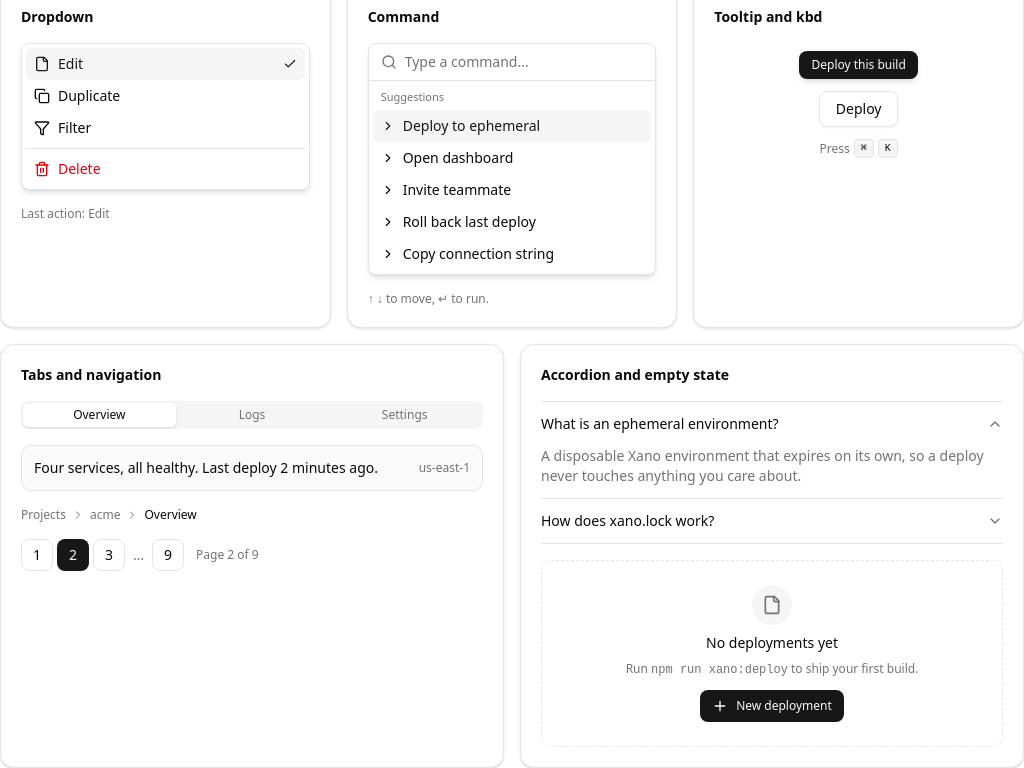
Test: the component gallery › switches tabs and follows them in the breadcrumb
This screenshot has width=1024, height=768.
(page scrolled)
Expected: the text "Four services, all healthy. Last deploy 2 minutes ago." is shown, [34,458,378,478]
Click the tab "Logs": (252, 414) [176,402,328,426]
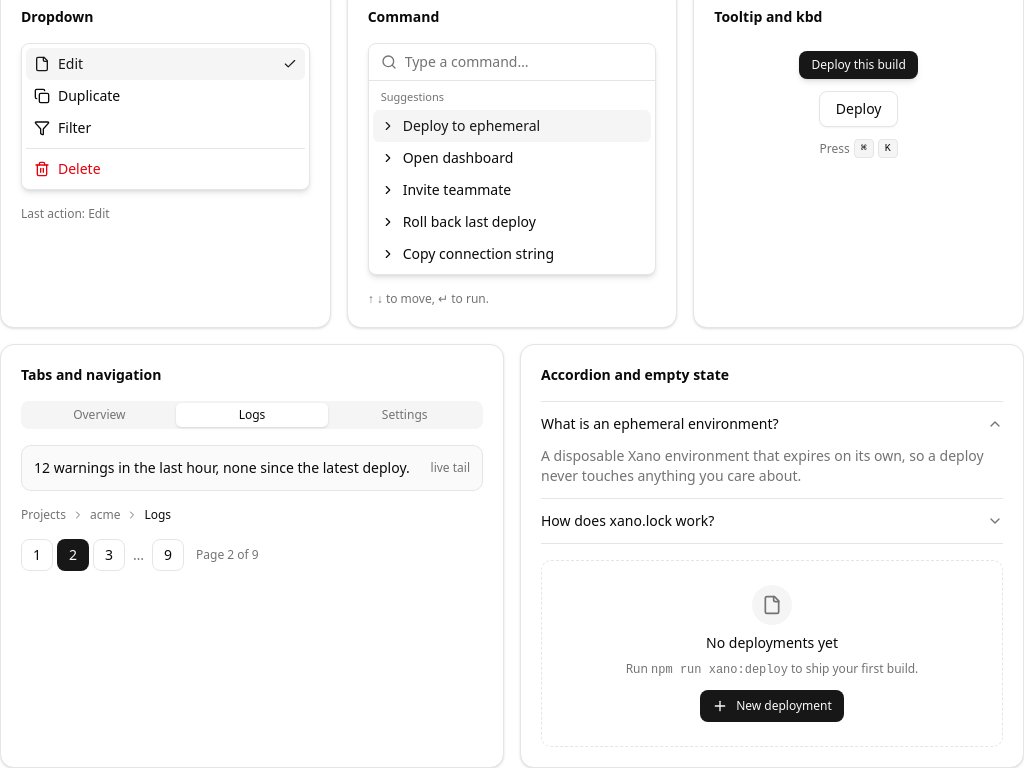
Expected: the text "12 warnings in the last hour, none since the latest deploy." is shown, [34,458,410,478]
